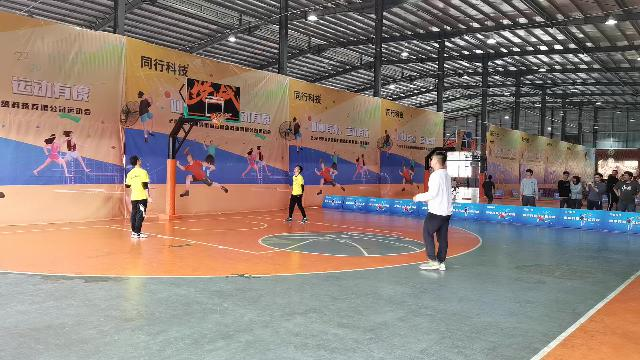basket: (211, 111, 231, 127)
goal: (212, 116, 220, 126)
